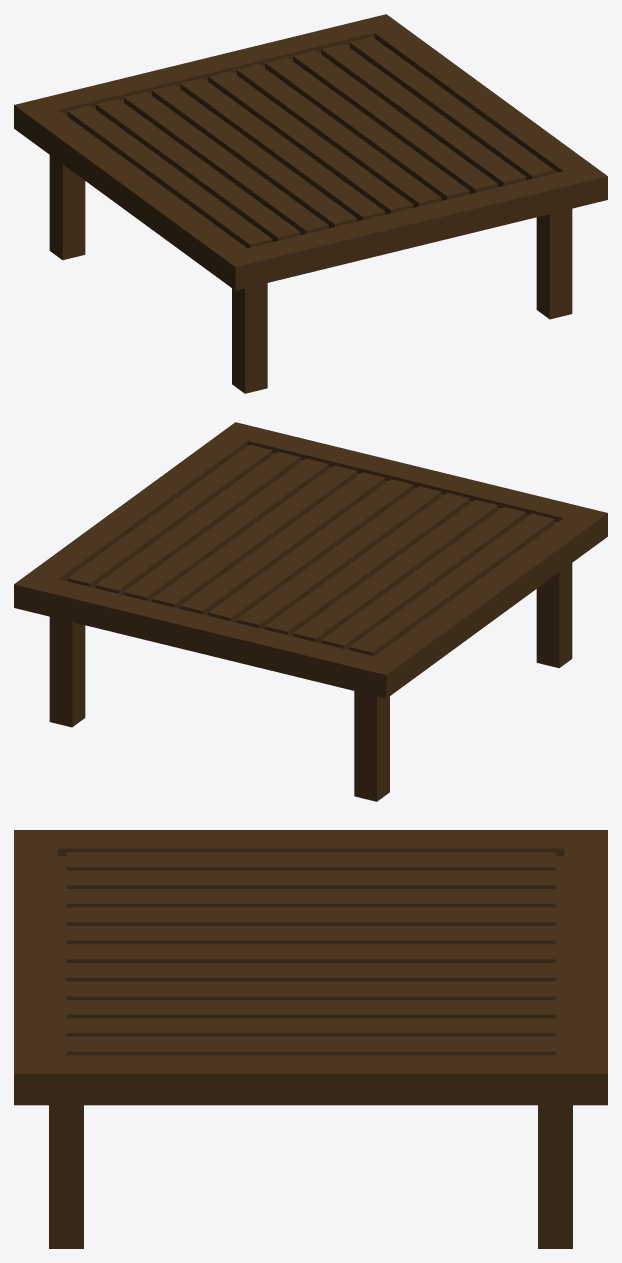
The model's file is Korean_item_06.FBX.
3 views of the same model, one above another, from view 1: azimuth 30°, elevation 25°; view 2: azimuth 150°, elevation 25°; view 3: azimuth 270°, elevation 25° (orthographic). The views are drawn at different scales.
Visible parts, largest first — view 1: Voxel_Korean_traditional village-8; view 2: Voxel_Korean_traditional village-8; view 3: Voxel_Korean_traditional village-8.
Boxes of the visible parts, x1,y1,x2,y2 form: Voxel_Korean_traditional village-8: (14,14,607,393); Voxel_Korean_traditional village-8: (14,422,607,801); Voxel_Korean_traditional village-8: (14,830,607,1248).
Bounding box in the file's own units: 65.99 × 23.99 × 67.98.
1 material, 1 textured.
